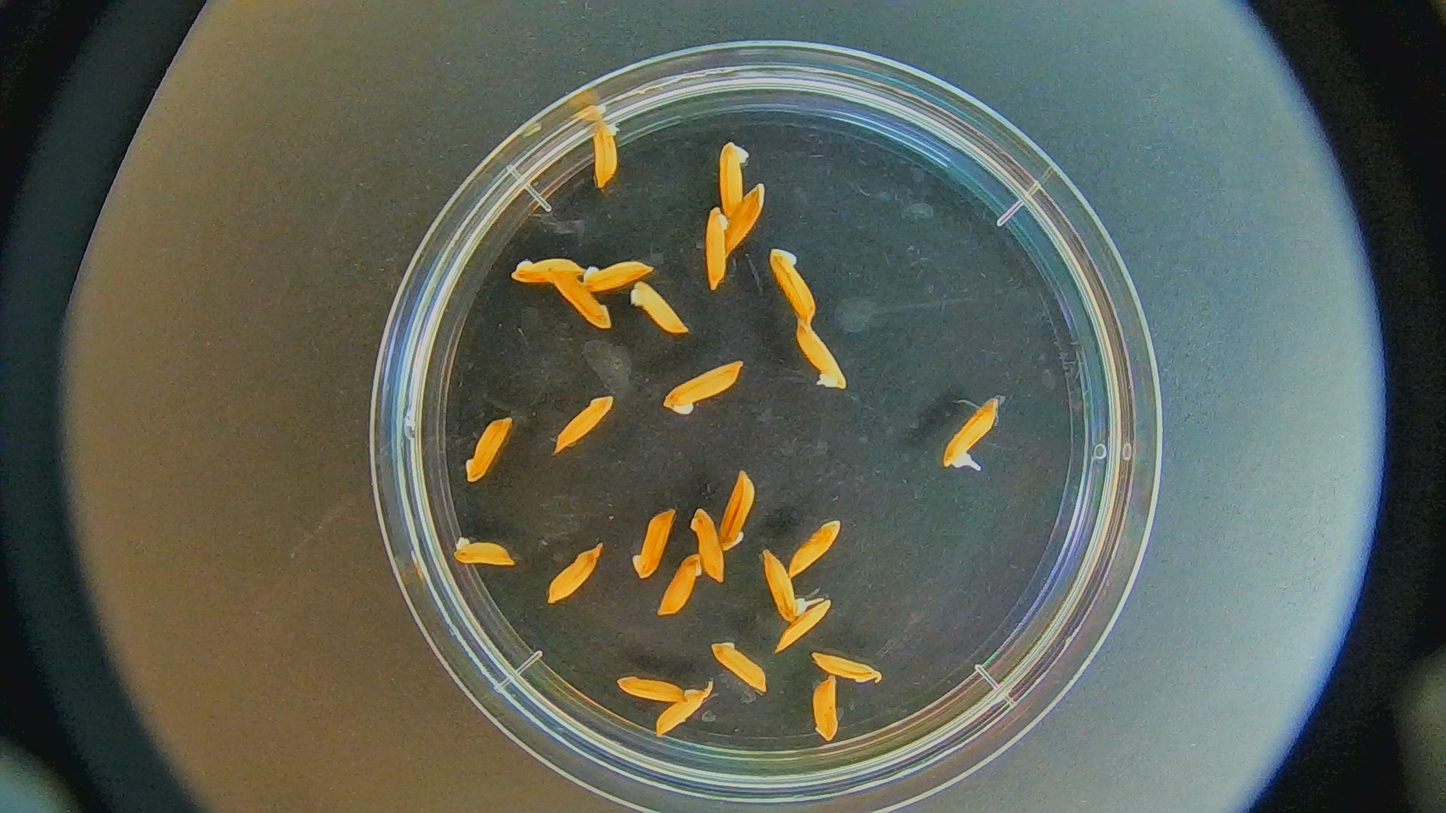no: (619, 276, 700, 343), (542, 262, 615, 336), (683, 504, 736, 591), (706, 636, 776, 698), (461, 411, 514, 488), (765, 245, 819, 319), (714, 467, 757, 559), (721, 178, 768, 260), (664, 363, 744, 410), (630, 507, 679, 583), (576, 251, 657, 295), (795, 322, 846, 391), (654, 550, 703, 620), (608, 664, 691, 705), (554, 397, 615, 452), (789, 519, 842, 582), (546, 548, 603, 606), (806, 642, 883, 682), (657, 681, 715, 734), (700, 204, 733, 297), (775, 599, 835, 650), (448, 531, 520, 572), (716, 137, 751, 216), (507, 254, 585, 288), (589, 117, 620, 192), (810, 671, 842, 743)
yes: (942, 397, 999, 466), (760, 551, 800, 625)
